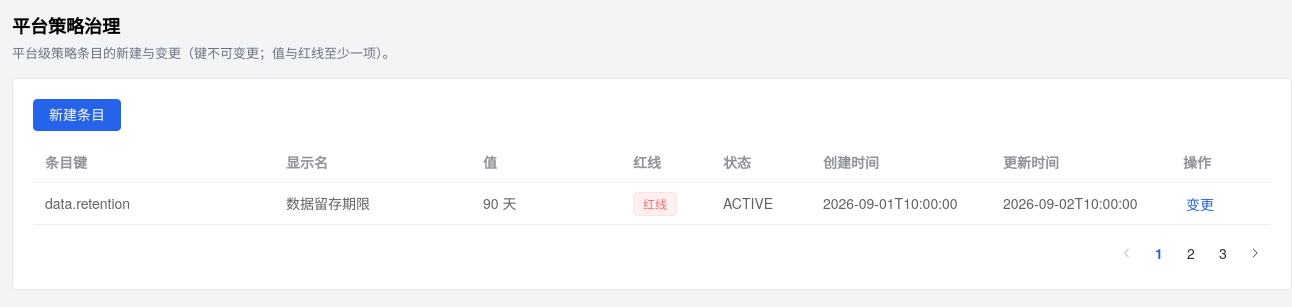
it: 平台策略条目列表（T26） › 分页越界（1000C0001）：文案原样展示且列表保持原数据（不乐观更新）（§8.7）
Click the button with class "btn-next" at (1255, 253), box [1239,237,1271,269]
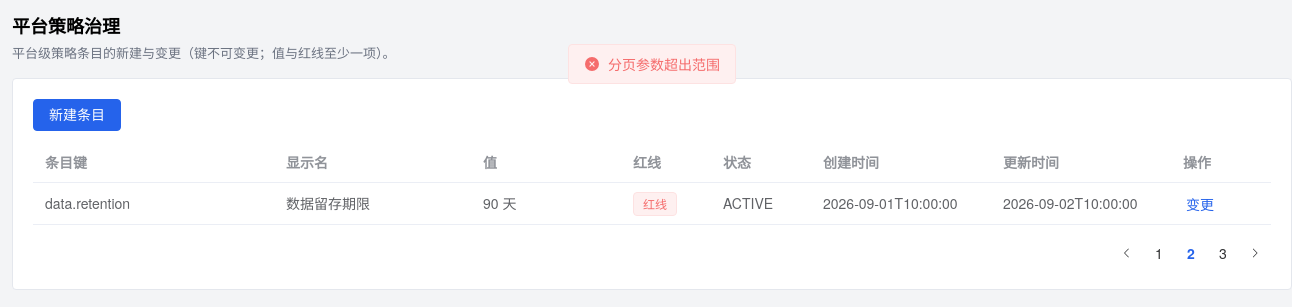
expect the text "90 天" is shown: met, box [483,193,516,213]
expect the text "分页参数超出范围" is shown: met, box [608,57,720,71]
